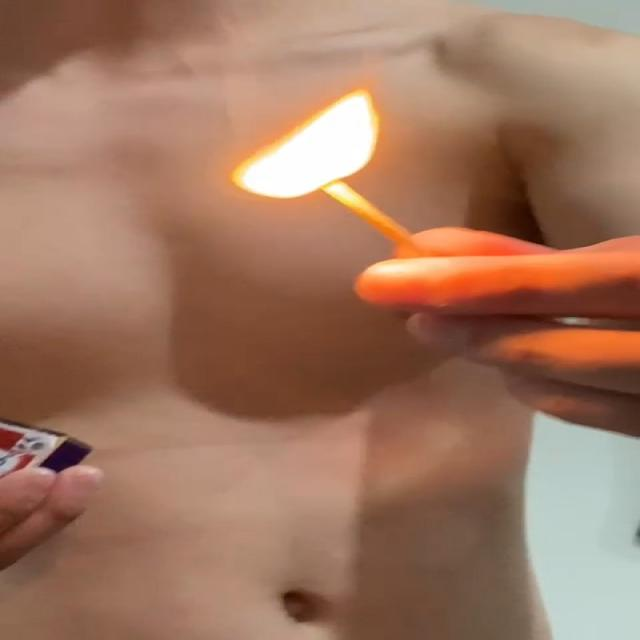fogo-ypXI: (227, 83, 381, 200)
